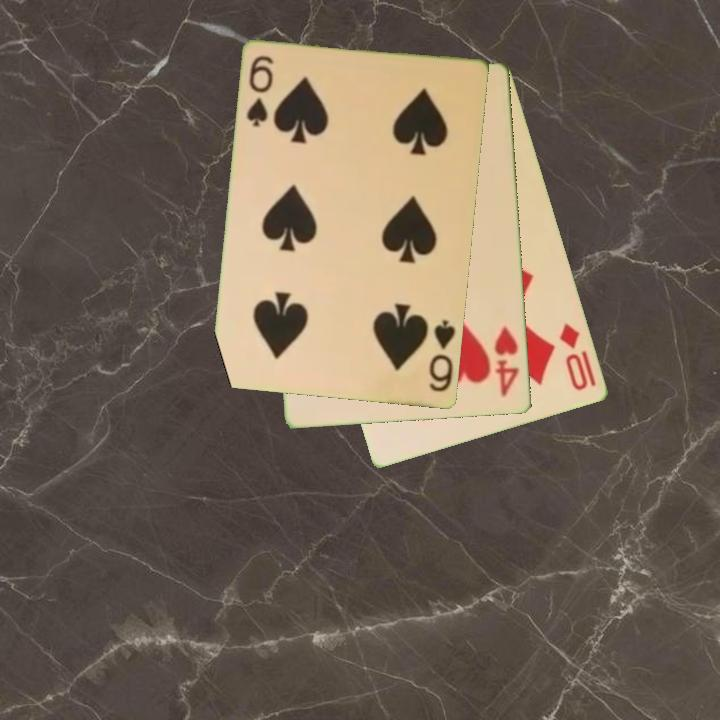10d: (557, 319, 592, 394)
4h: (491, 323, 522, 400)
6s: (426, 317, 459, 395), (244, 52, 277, 130)
